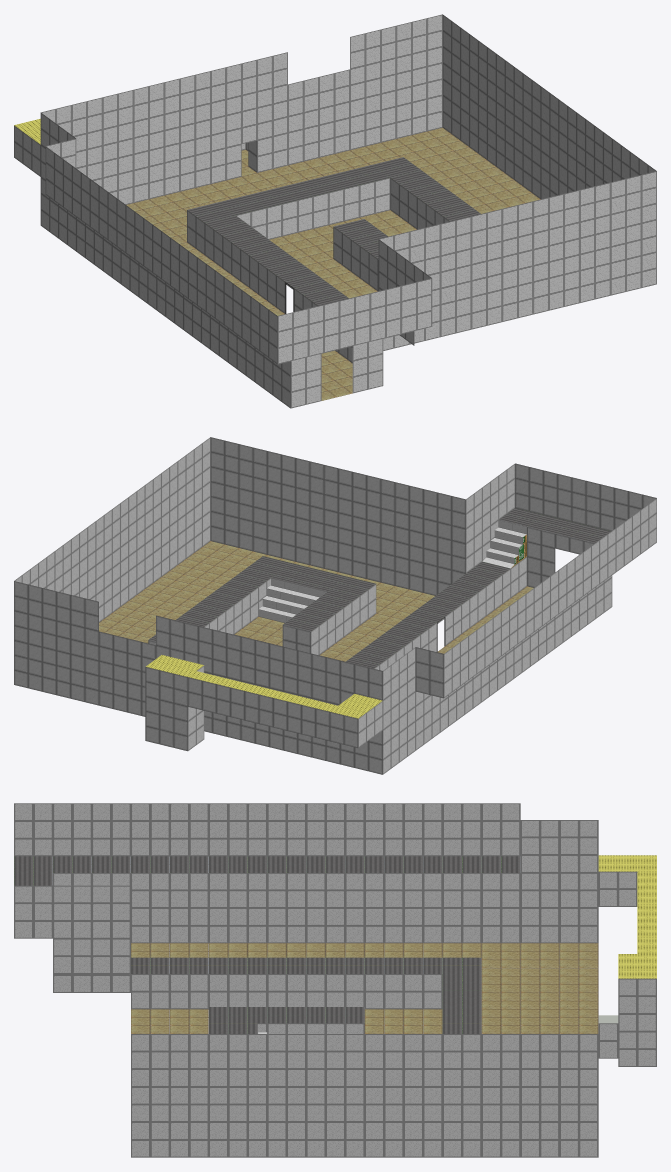
Rendered from geometry-06-room2part2.FBX.
The picture shows the model from 3 angles, top to bottom: view 1: azimuth 30°, elevation 25°; view 2: azimuth 150°, elevation 25°; view 3: azimuth 270°, elevation 25°; orthographic projection. The views are drawn at different scales.
Parts seen in each view (by area): view 1: room2-part2; view 2: room2-part2; view 3: room2-part2.
Boxes of the visible parts, box(x1,y1,x2,y2) form: room2-part2: box(14, 14, 656, 408); room2-part2: box(14, 437, 656, 774); room2-part2: box(14, 803, 656, 1157).
Size of the model in its own units: 560 by 140 by 660.
Materials: 1 (1 with a texture image).
